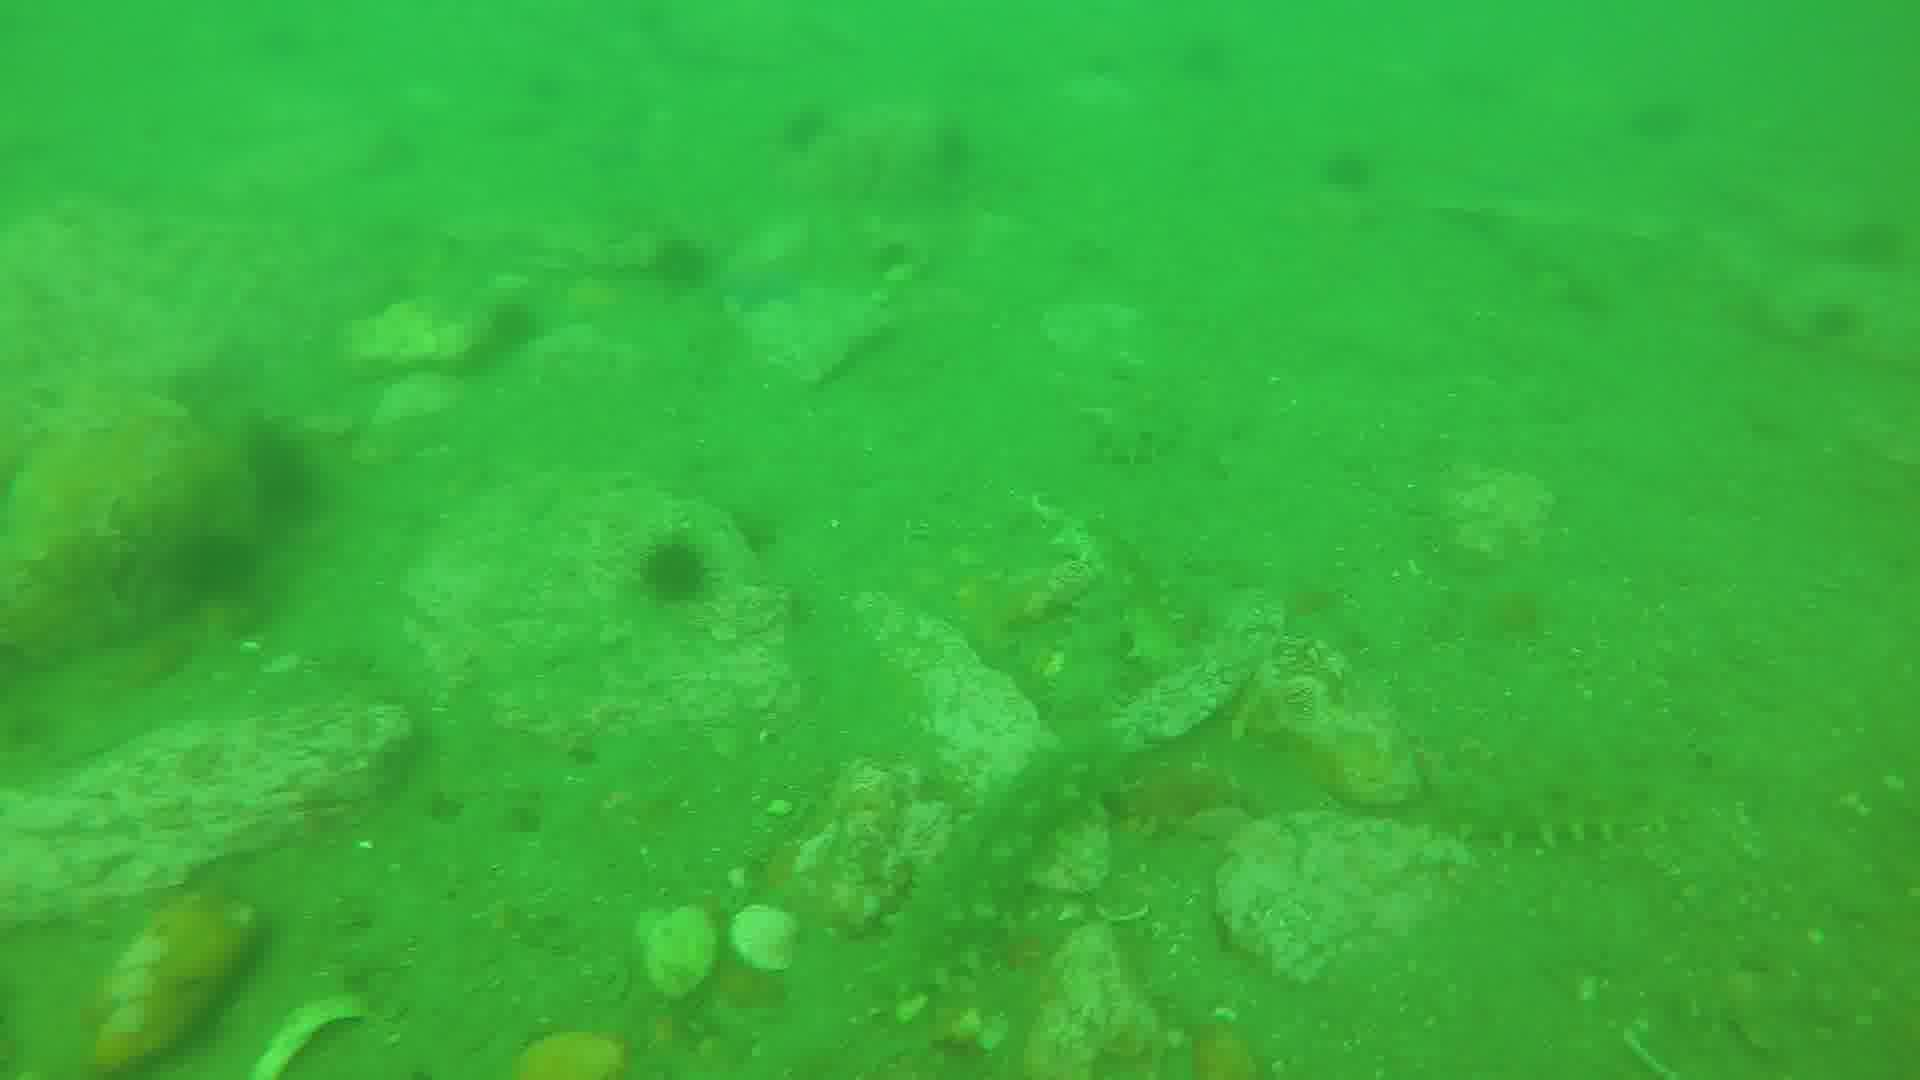echinus: (642, 541, 717, 609), (659, 236, 719, 286), (1319, 153, 1371, 189)
holothurian: (876, 748, 1124, 1005), (1393, 785, 1650, 843), (1079, 410, 1175, 454)
starfish: (712, 257, 816, 305)
